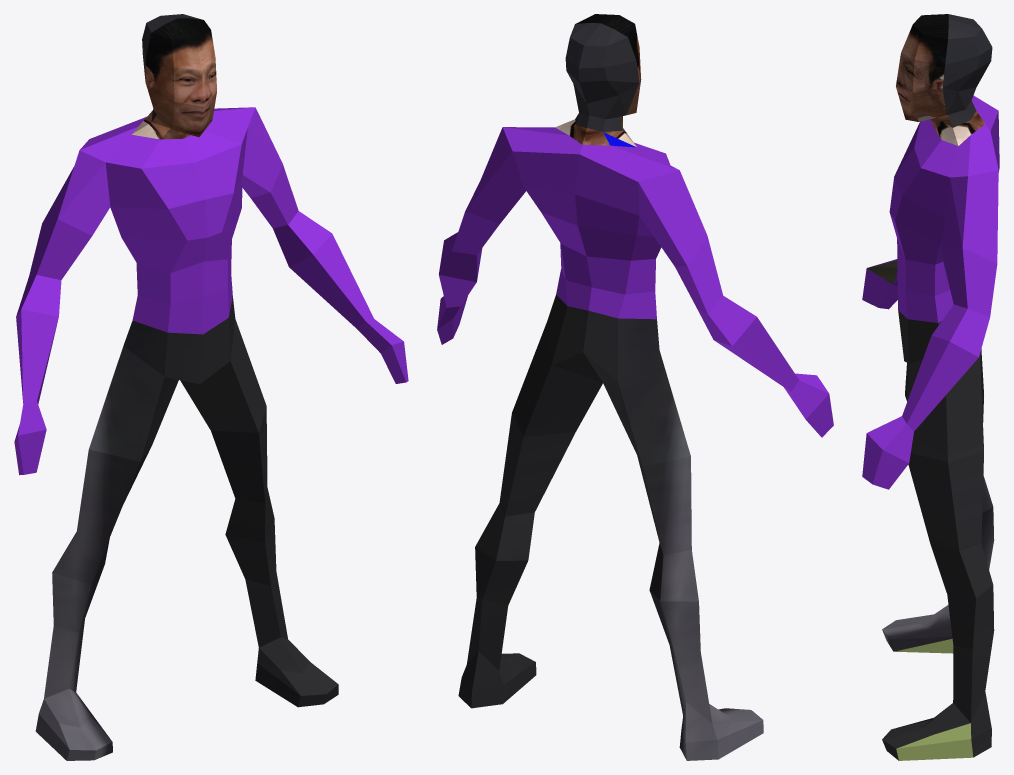
The picture shows the model from 3 angles, left to right: view 1: azimuth 30°, elevation 25°; view 2: azimuth 150°, elevation 25°; view 3: azimuth 270°, elevation 25°; orthographic projection. The views are drawn at different scales.
Visible parts, largest first — view 1: BASE_Low_Poly_Man_Cube.001; view 2: BASE_Low_Poly_Man_Cube.001; view 3: BASE_Low_Poly_Man_Cube.001.
Part boxes in pixels (box(x1,y1,x2,y2)): BASE_Low_Poly_Man_Cube.001: box(14, 14, 408, 760); BASE_Low_Poly_Man_Cube.001: box(437, 14, 833, 760); BASE_Low_Poly_Man_Cube.001: box(862, 14, 999, 760).
Size of the model in its own units: 317 by 542 by 99.74.
